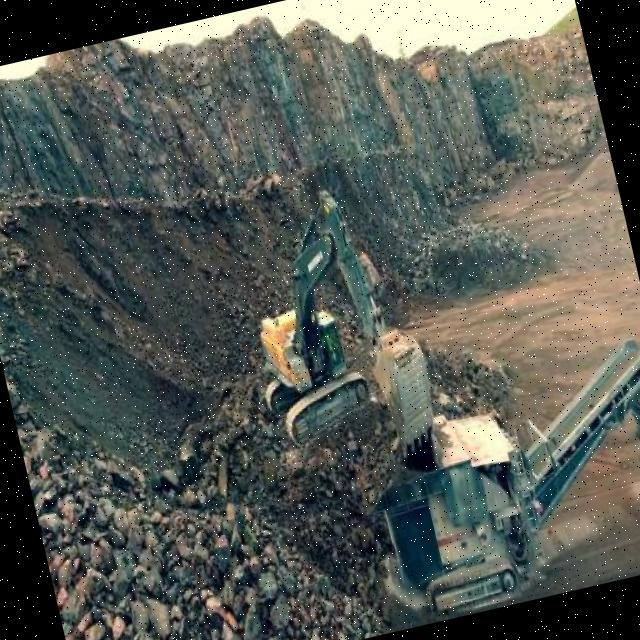Excavator: (218, 172, 448, 494)
